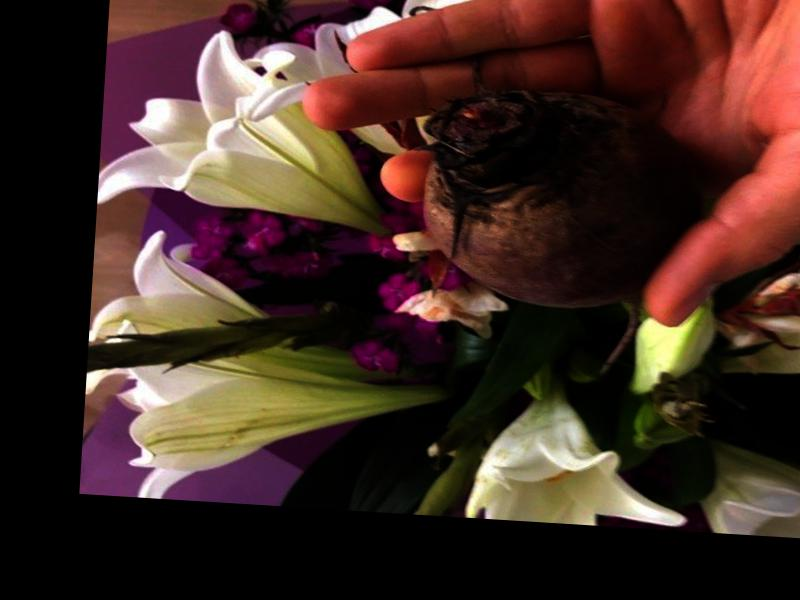Beet: (412, 82, 707, 382)
